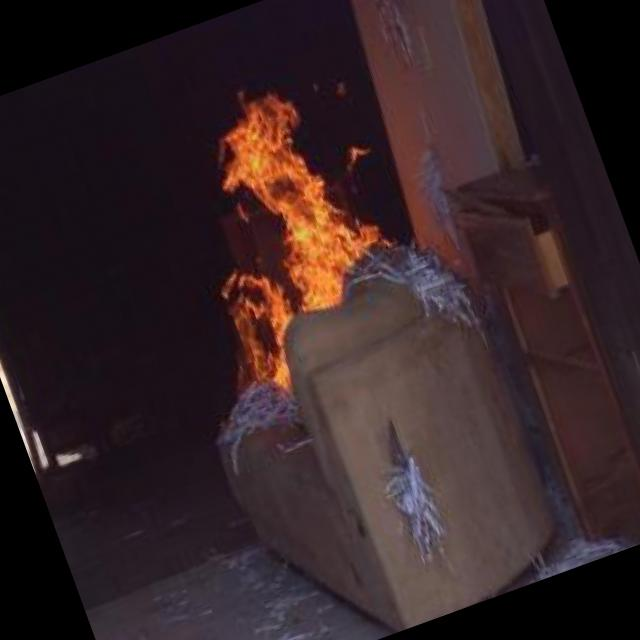fire: (114, 49, 415, 417)
